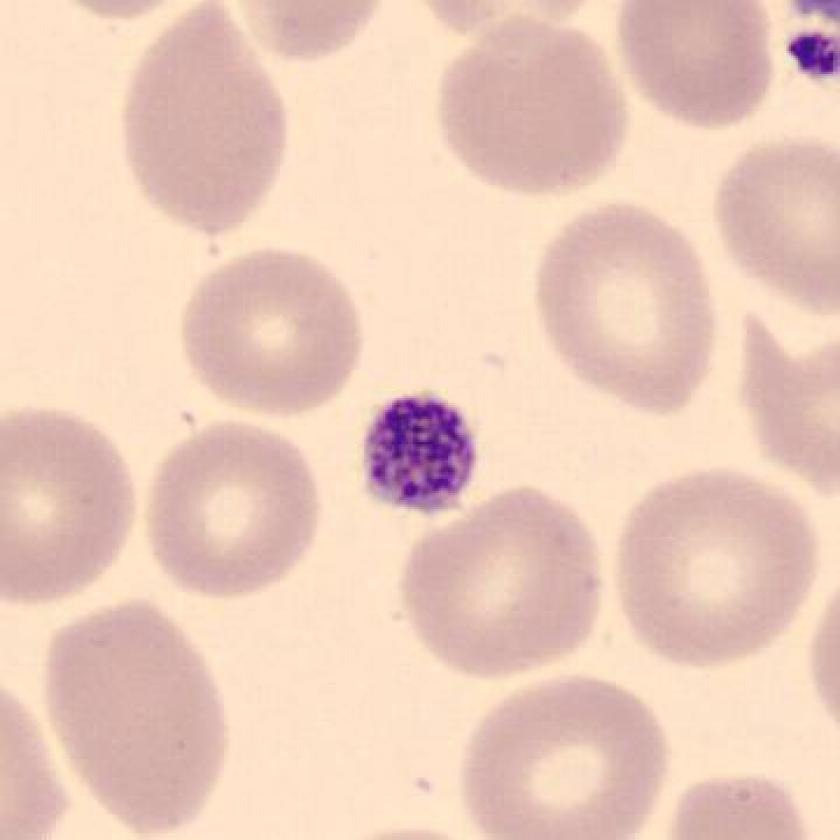platelets: (361, 390, 480, 519), (780, 27, 840, 92)
